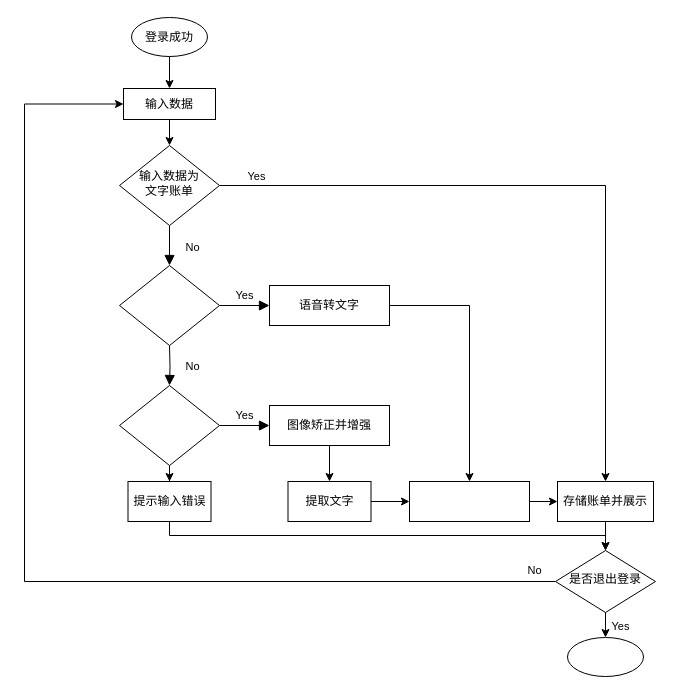
Some shapes in this 673 by 694 pixel diagram are drawn without their labels. The shapes that lost their labels are listed below. From the top down, each one's centre as x and y in pixels, then its label:
At point (169, 305): "输入数据为 语音".
At point (169, 425): "输入数据为 图片".
At point (469, 501): "提取账单".
At point (605, 656): "结束".
